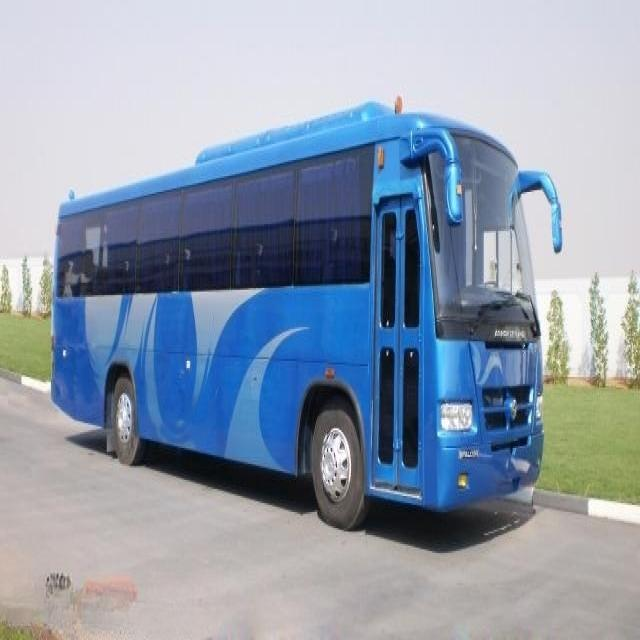bus: (50, 102, 560, 528)
